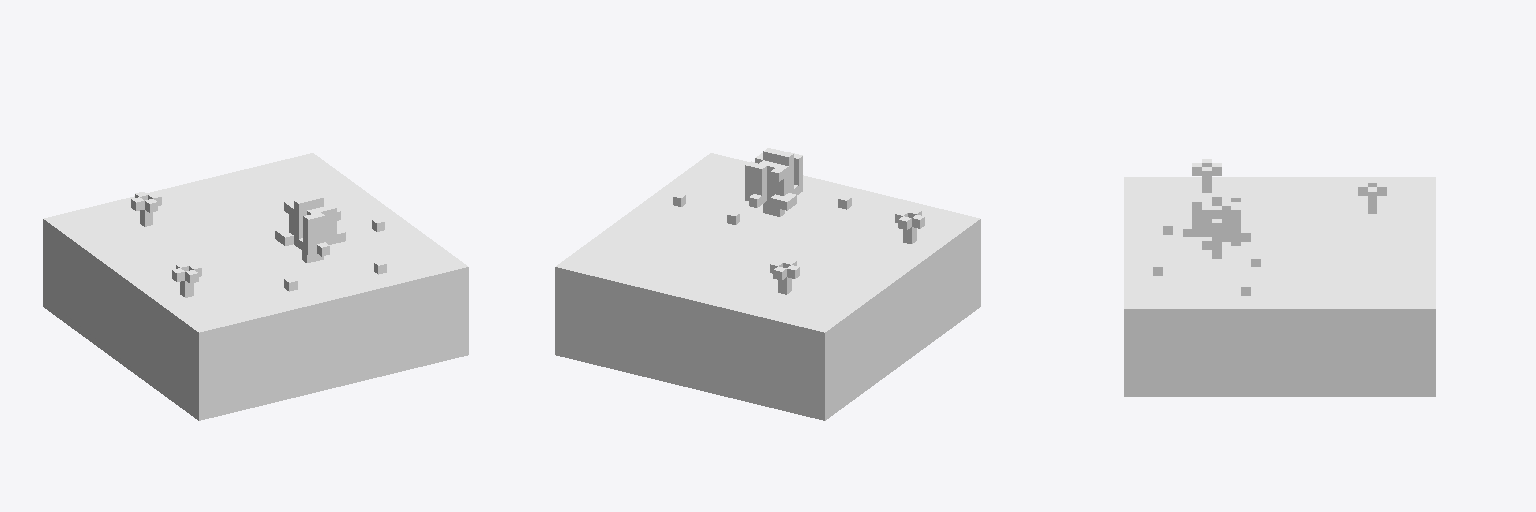
File: Overworld_Beach_08.obj
3 views of the same model, side by side, from view 1: azimuth 30°, elevation 25°; view 2: azimuth 150°, elevation 25°; view 3: azimuth 270°, elevation 25° (orthographic).
Parts seen in each view (by area): view 1: object 1; view 2: object 1; view 3: object 1.
Boxes of the visible parts, x1,y1,x2,y2 form: object 1: [43, 153, 468, 420]; object 1: [555, 148, 980, 420]; object 1: [1124, 159, 1435, 396].
Size of the model in its own units: 3.2 by 1.7 by 3.2.